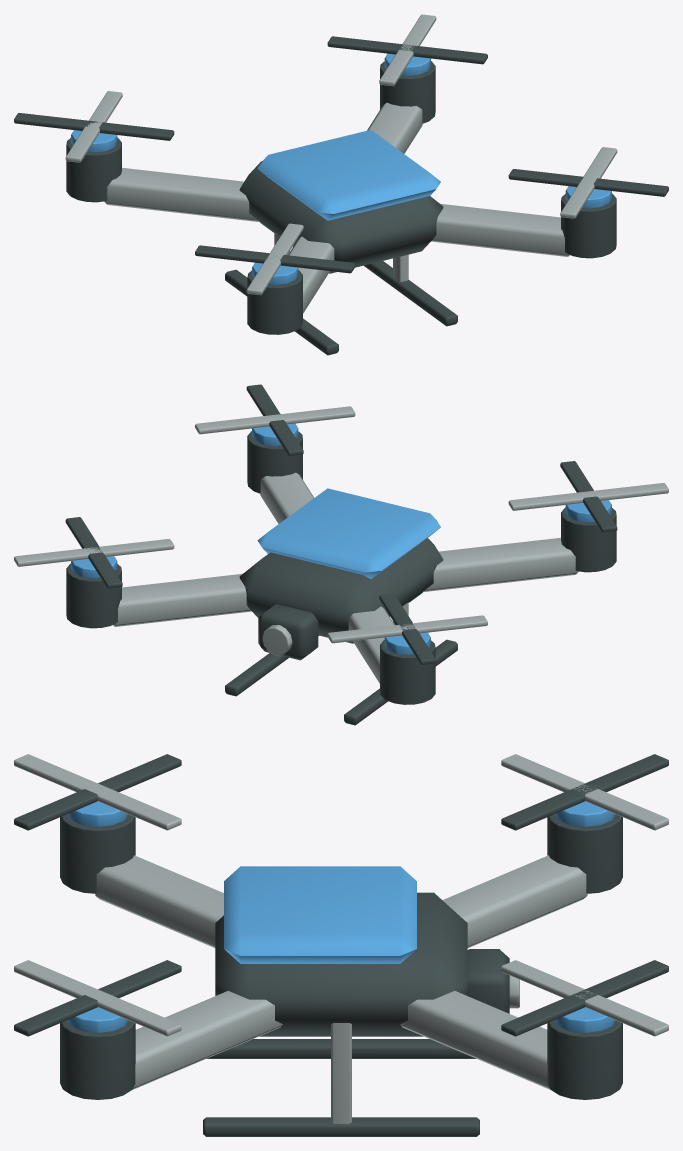
The model's file is aerial-blue.glb.
The picture shows the model from 3 angles, top to bottom: view 1: azimuth 30°, elevation 25°; view 2: azimuth 150°, elevation 25°; view 3: azimuth 270°, elevation 25°; orthographic projection. The views are drawn at different scales.
Visible parts, largest first — view 1: aerial-chassis, aerial-mechanics, aerial-armor; view 2: aerial-chassis, aerial-mechanics, aerial-armor; view 3: aerial-chassis, aerial-mechanics, aerial-armor.
Part boxes in pixels (box(x1,y1,x2,y2)): aerial-chassis: box(14, 36, 668, 355); aerial-mechanics: box(65, 14, 617, 313); aerial-armor: box(71, 53, 611, 284); aerial-chassis: box(65, 384, 617, 725); aerial-mechanics: box(14, 406, 668, 683); aerial-armor: box(71, 423, 611, 654); aerial-chassis: box(14, 754, 668, 1136); aerial-mechanics: box(14, 754, 668, 1123); aerial-armor: box(67, 801, 615, 1032).
Bounding box in the file's own units: 0.7794 × 0.2665 × 0.7794.
